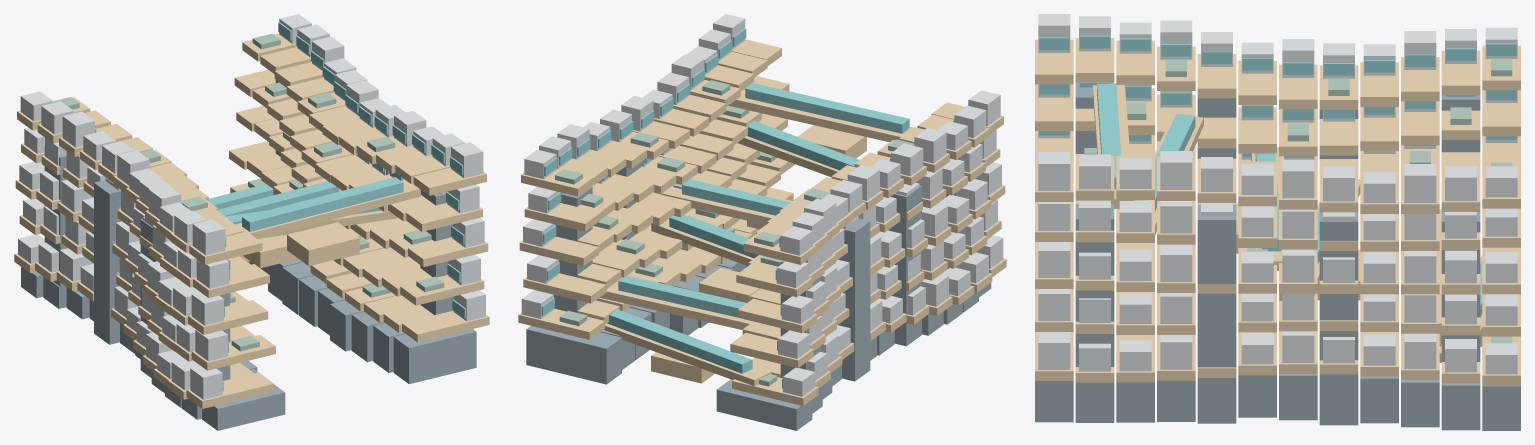
3 renders of one model, left to right at view 1: azimuth 30°, elevation 25°; view 2: azimuth 150°, elevation 25°; view 3: azimuth 270°, elevation 25°, orthographic. The views are drawn at different scales.
Size of the model in its own units: 200 by 136 by 227.
